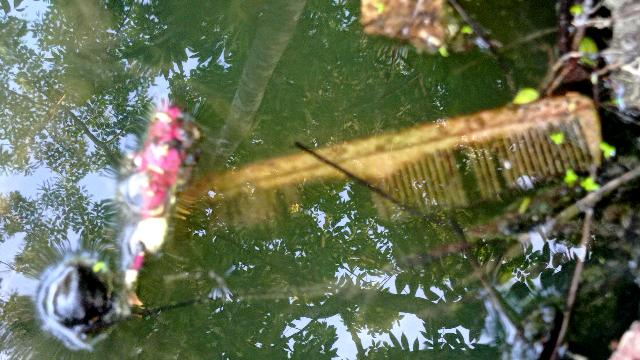hardplastic: (199, 91, 601, 252)
